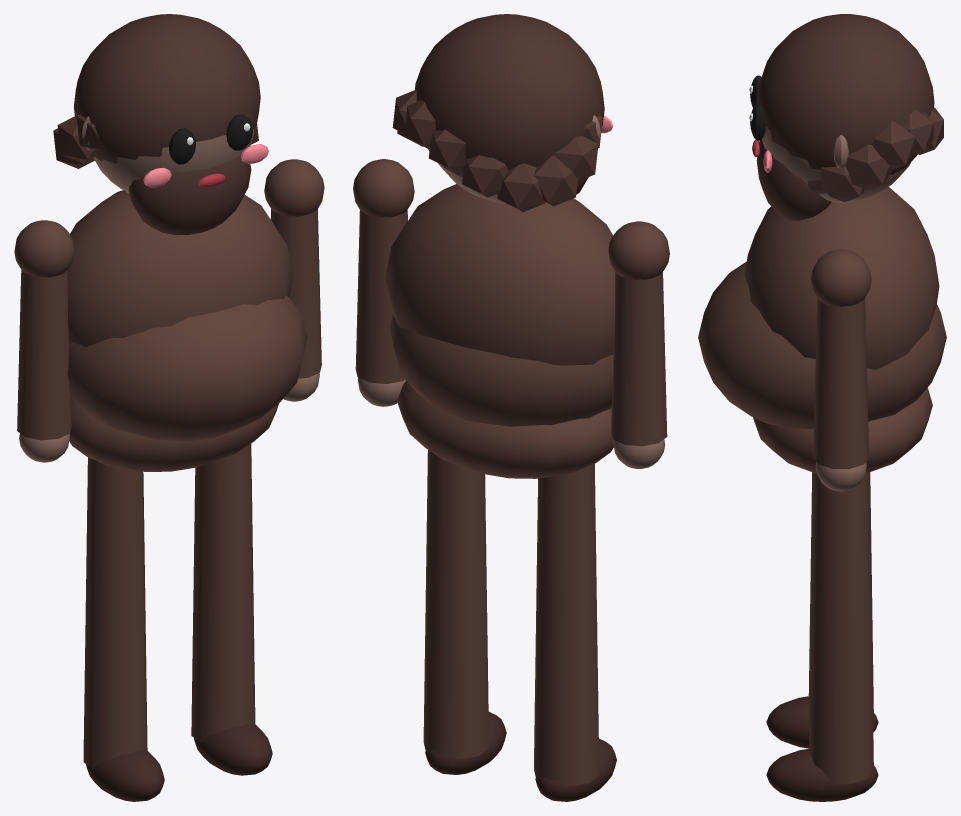
File: parking_sasquatch.glb
3 views of the same model, side by side, from view 1: azimuth 30°, elevation 25°; view 2: azimuth 150°, elevation 25°; view 3: azimuth 270°, elevation 25° (orthographic). The views are drawn at different scales.
Visible parts, largest first — view 1: Body.001, Leg_R.001, Leg_L.001, Arm_R.001, Arm_L.001; view 2: Body.001, Leg_R.001, Leg_L.001, Arm_R.001, Arm_L.001; view 3: Body.001, Leg_L.001, Arm_L.001, Leg_R.001.
Part boxes in pixels (<box>): Body.001: <box>53,14,307,471</box>; Leg_R.001: <box>83,457,164,801</box>; Leg_L.001: <box>191,444,272,775</box>; Arm_R.001: <box>14,220,74,462</box>; Arm_L.001: <box>264,159,324,401</box>; Body.001: <box>385,14,615,478</box>; Leg_R.001: <box>534,463,616,801</box>; Leg_L.001: <box>423,450,506,774</box>; Arm_R.001: <box>608,221,669,468</box>; Arm_L.001: <box>353,159,414,406</box>; Body.001: <box>698,14,946,472</box>; Leg_L.001: <box>766,472,878,801</box>; Arm_L.001: <box>811,249,871,491</box>; Leg_R.001: <box>766,472,878,748</box>.
Bounding box in the file's own units: 0.9901 × 2.34 × 0.706.
